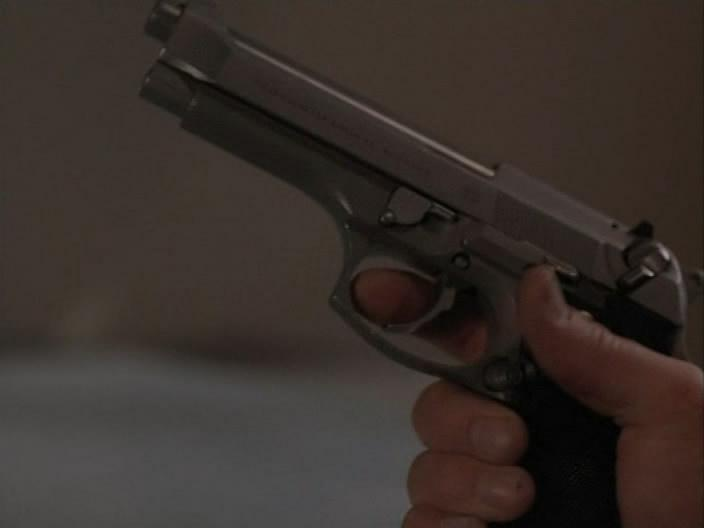gun: (131, 1, 692, 488)
